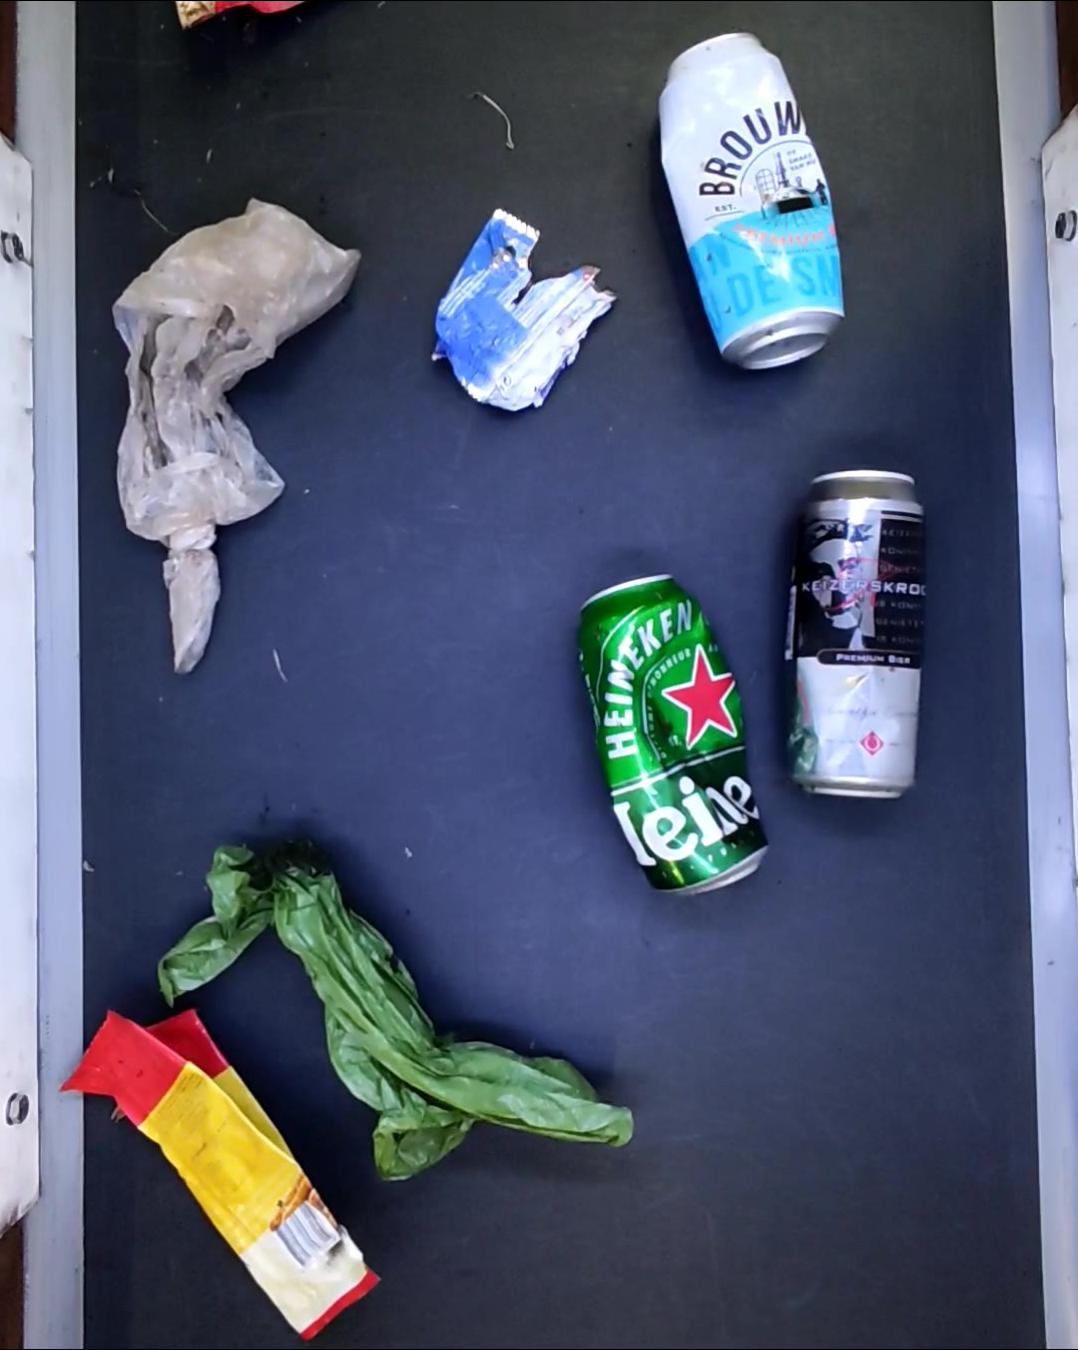Drankblikjes: (574, 573, 771, 894), (658, 29, 840, 370), (785, 476, 925, 802)
Plastic folies of stukken daarvan 2.5- 50 cm: (113, 196, 361, 671)
Snoep snack en chips verpakkingen: (56, 1003, 383, 1340), (433, 208, 613, 410)
